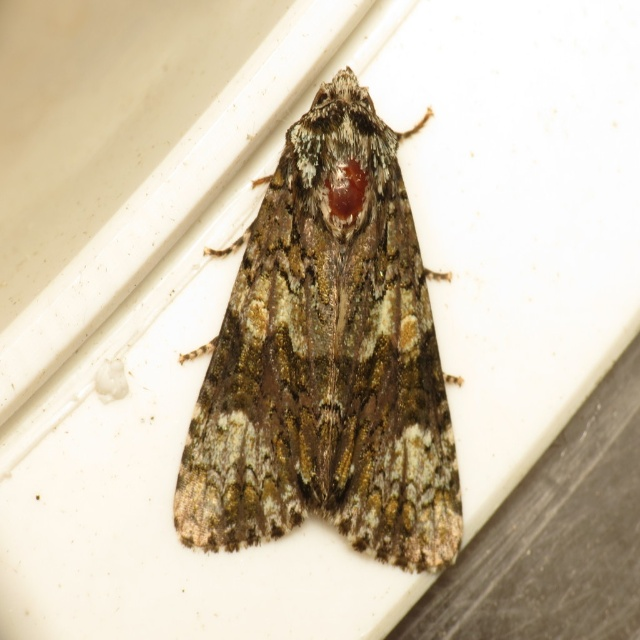Butterfly: (173, 86, 482, 564)
